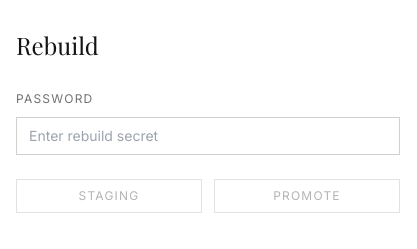
Test: RebuildPage › shows success message after promote is triggered
Type "mysecret" into the password field labelled "Password" at (208, 136), box x1=16 y1=117 x2=400 y2=155
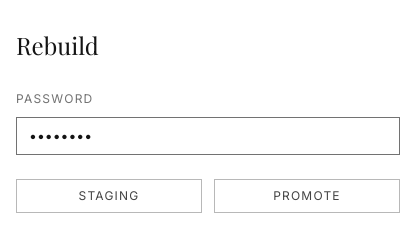
Click the button "Promote" at (307, 196), box x1=214 y1=179 x2=400 y2=213
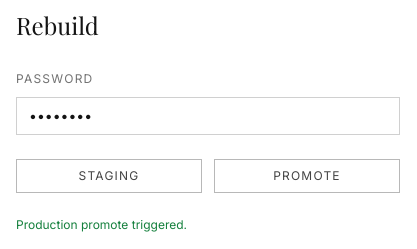
Expected: the text "Production promote triggered." is shown, x1=16 y1=217 x2=187 y2=232
